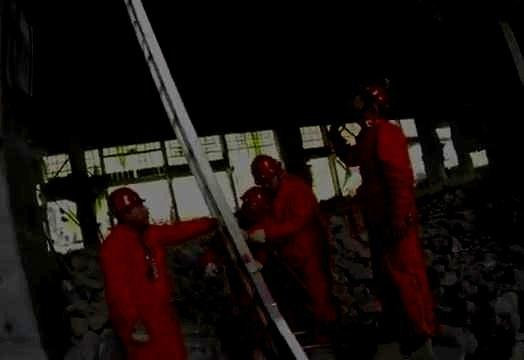helmet: (106, 187, 150, 225), (251, 154, 283, 190), (239, 187, 268, 219)
